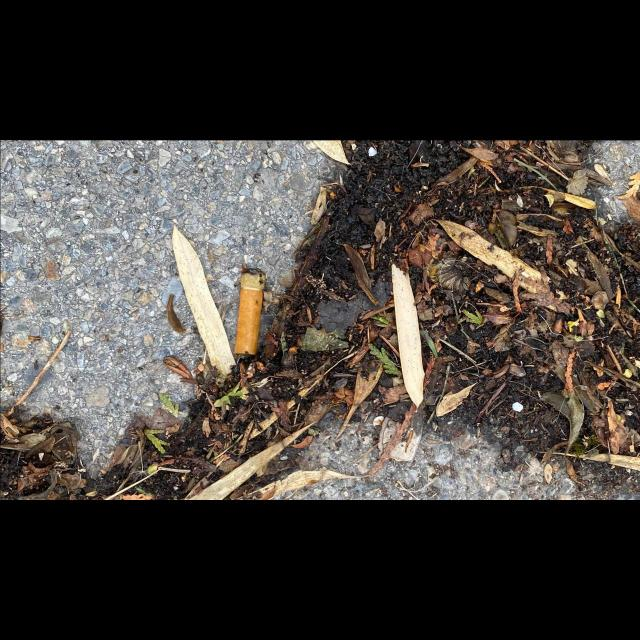cigarette: (233, 264, 266, 355)
